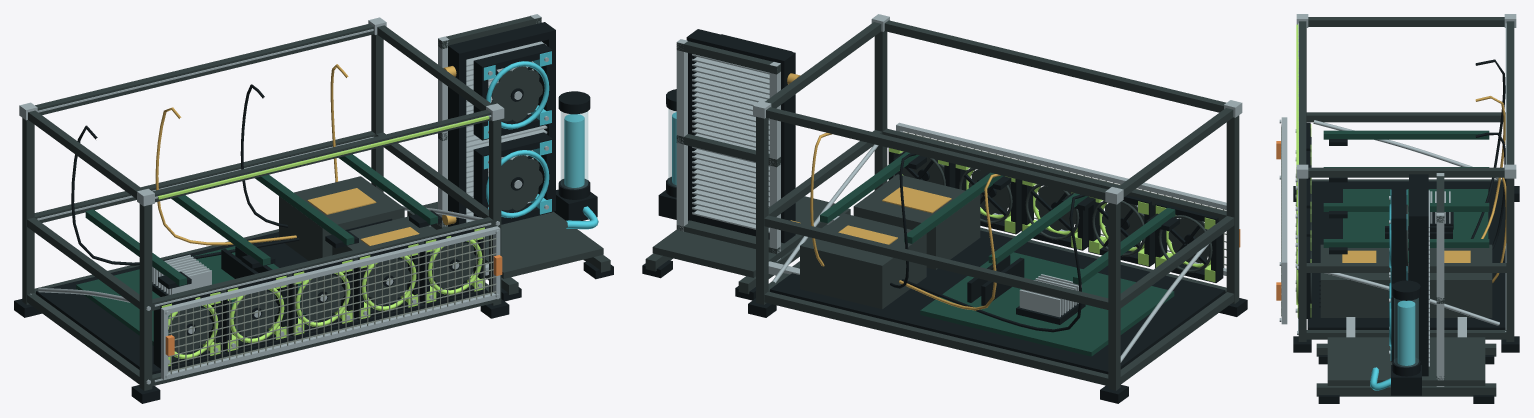
File: rig-gameplay-mesh-liquid.glb
The picture shows the model from 3 angles, left to right: view 1: azimuth 30°, elevation 25°; view 2: azimuth 150°, elevation 25°; view 3: azimuth 270°, elevation 25°; orthographic projection. The views are drawn at different scales.
Visible parts, largest first — view 1: Anodized graphite (×9), Rubber and ABS (×10), Brushed aluminium (×3), Filter fibres, Circuit board, Coolant blue (×3), Lime accents (×5), cooling-liquid, Contacts, rig-gameplay-mesh-liquid, slot-cable-1, slot-cable-2 (+1 smaller); view 2: Anodized graphite (×6), Rubber and ABS (×7), Brushed aluminium (×3), Circuit board, Contacts, Lime accents (×2), slot-cable-1, slot-cable-2, cooling-liquid, Filter fibres; view 3: Anodized graphite (×2), Rubber and ABS (×6), Circuit board, Brushed aluminium (×3), Coolant blue (×2), cooling-liquid, Contacts, slot-cable-1, slot-cable-2, rig-gameplay-mesh-liquid, slot-cable-3, slot-cable-4 (+1 smaller).
Boxes of the visible parts, x1,y1,x2,y2 form: Anodized graphite (×9): (22,16,610,390); Rubber and ABS (×10): (14,22,613,403); Brushed aluminium (×3): (19,14,547,384); Filter fibres: (168,235,496,374); Circuit board: (76,154,437,345); Coolant blue (×3): (483,51,598,229); Lime accents (×5): (161,227,484,366); cooling-liquid: (561,111,587,189); Contacts: (307,188,419,246); rig-gameplay-mesh-liquid: (158,116,489,199); slot-cable-1: (71,125,299,265); slot-cable-2: (155,107,296,245); Anodized graphite (×6): (645,20,1239,390); Rubber and ABS (×7): (642,29,1247,403); Brushed aluminium (×3): (676,14,1242,362); Circuit board: (820,152,1175,356); Contacts: (838,186,951,244); Lime accents (×2): (1089,196,1215,282); slot-cable-1: (901,194,1084,332); slot-cable-2: (899,174,1000,310); cooling-liquid: (668,109,676,186); Filter fibres: (903,132,1226,267); Anodized graphite (×2): (1298,17,1514,396); Rubber and ABS (×6): (1293,139,1519,403); Circuit board: (1323,130,1489,262); Brushed aluminium (×3): (1281,14,1516,386); Coolant blue (×2): (1370,190,1415,390); cooling-liquid: (1394,298,1418,366); Contacts: (1342,250,1470,262); slot-cable-1: (1471,59,1505,238); slot-cable-2: (1475,96,1505,238); rig-gameplay-mesh-liquid: (1296,24,1298,168); slot-cable-3: (1475,132,1506,249); slot-cable-4: (1492,177,1506,282).
Size of the model in its own units: 8.43 by 3.32 by 3.94.
